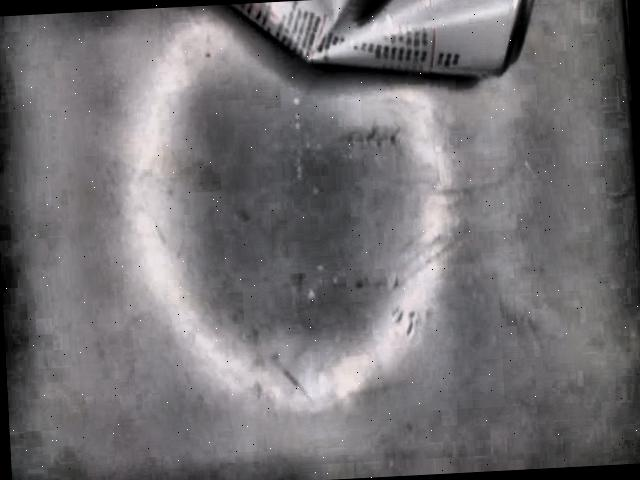Bottles: (229, 0, 535, 75)
